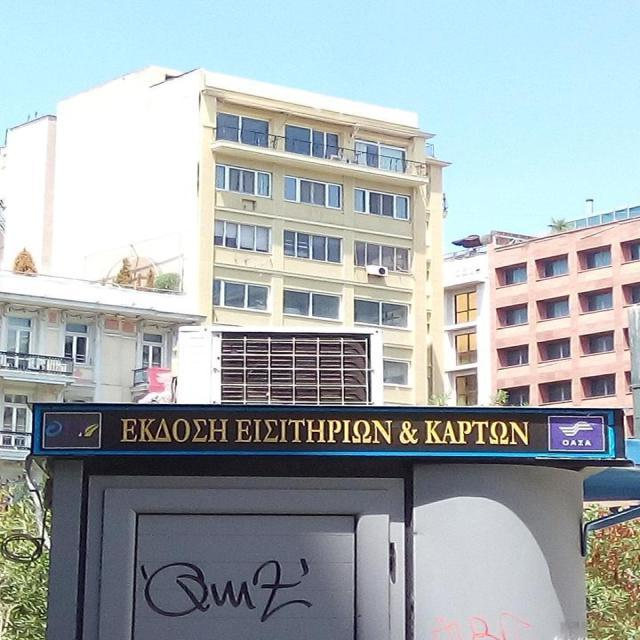nonspitting: (135, 558, 315, 622), (430, 612, 530, 640)
